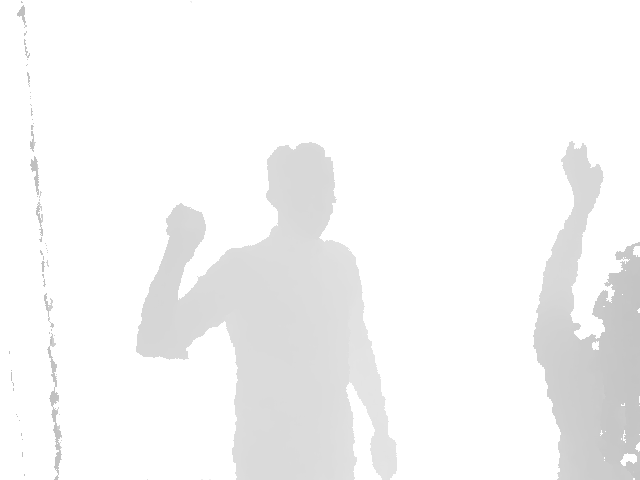hand: (561, 141, 604, 208)
head: (265, 142, 337, 237), (591, 241, 640, 317)
person: (134, 142, 399, 480), (532, 141, 640, 480)
